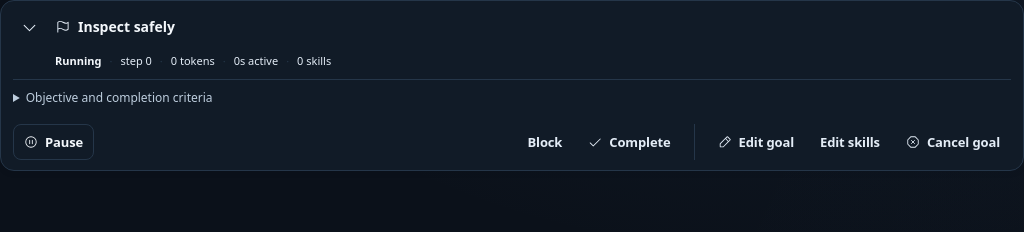
Test: says what a goal already is instead of silently failing a transition
The width and height of the screenshot is (1024, 232).
Click the button "Pause": (54, 142) [13, 124, 94, 160]
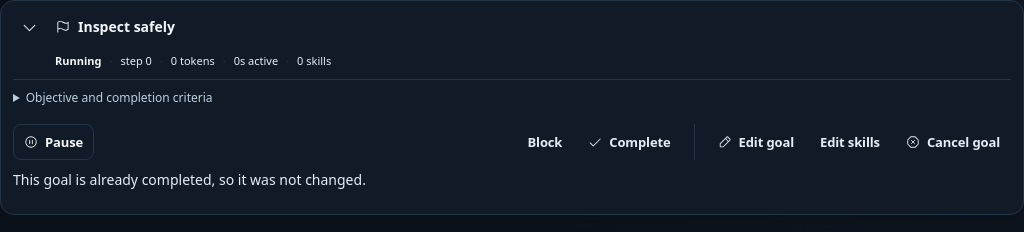
Now the message shows "already completed", box [13, 170, 366, 189]
